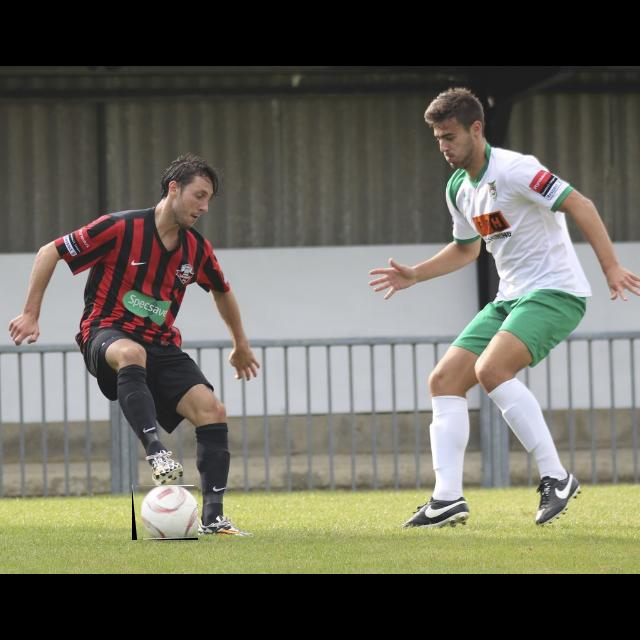Football: (132, 486, 198, 540)
